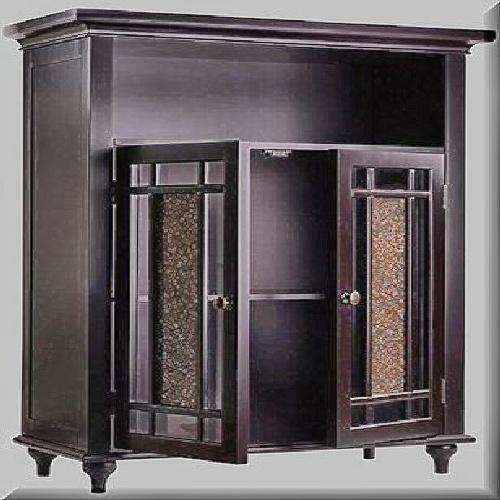cabinet: (42, 20, 473, 460)
